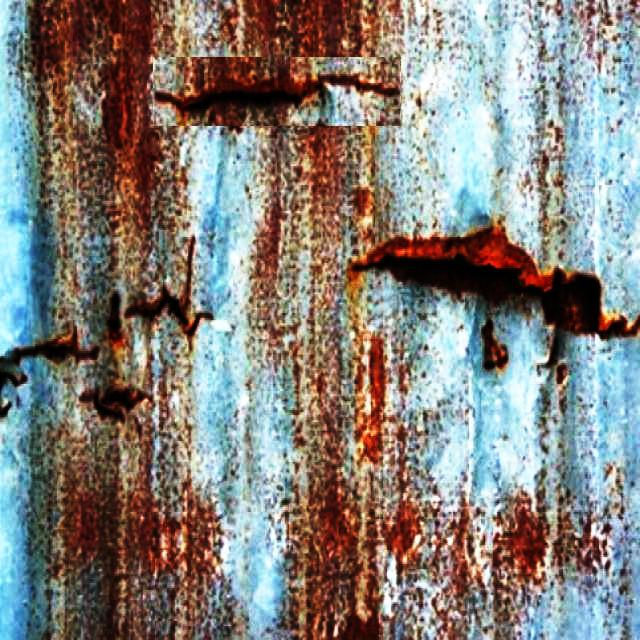Corrosion: (46, 402, 233, 640), (96, 0, 156, 230), (353, 228, 555, 294), (305, 478, 385, 640), (32, 0, 123, 128), (250, 170, 314, 348), (296, 125, 376, 264), (244, 0, 400, 62), (126, 236, 213, 338), (155, 71, 323, 116), (385, 261, 520, 304), (494, 498, 546, 584), (360, 337, 386, 464), (10, 329, 98, 364), (385, 502, 422, 566), (558, 277, 601, 332), (80, 388, 150, 420), (336, 76, 395, 94), (107, 293, 121, 346)
